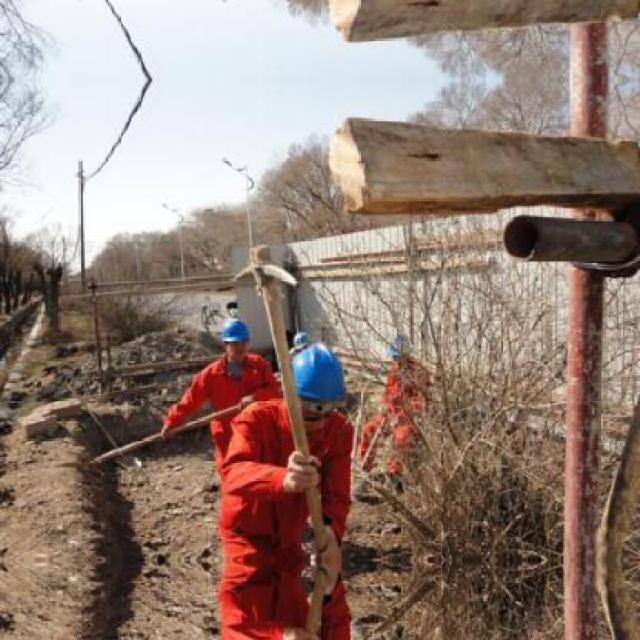helmet: (288, 344, 346, 428), (217, 318, 251, 358), (387, 333, 410, 362)
